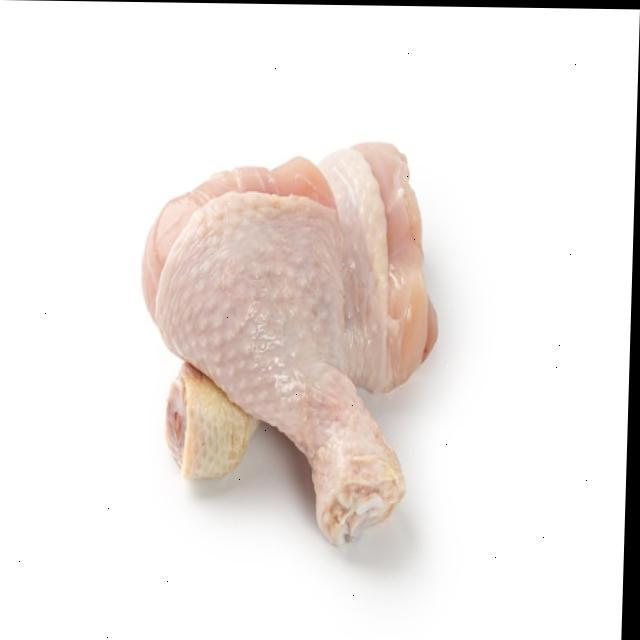leg: (132, 157, 414, 534), (149, 129, 444, 483)
